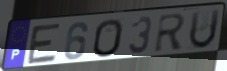3: (129, 15, 153, 56)
6: (62, 21, 89, 61)
E: (26, 21, 63, 66)
O: (92, 18, 125, 59)
R: (153, 12, 188, 54)
U: (187, 8, 222, 51)
